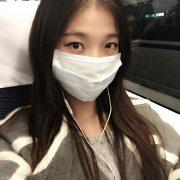OK: (50, 27, 123, 100)
